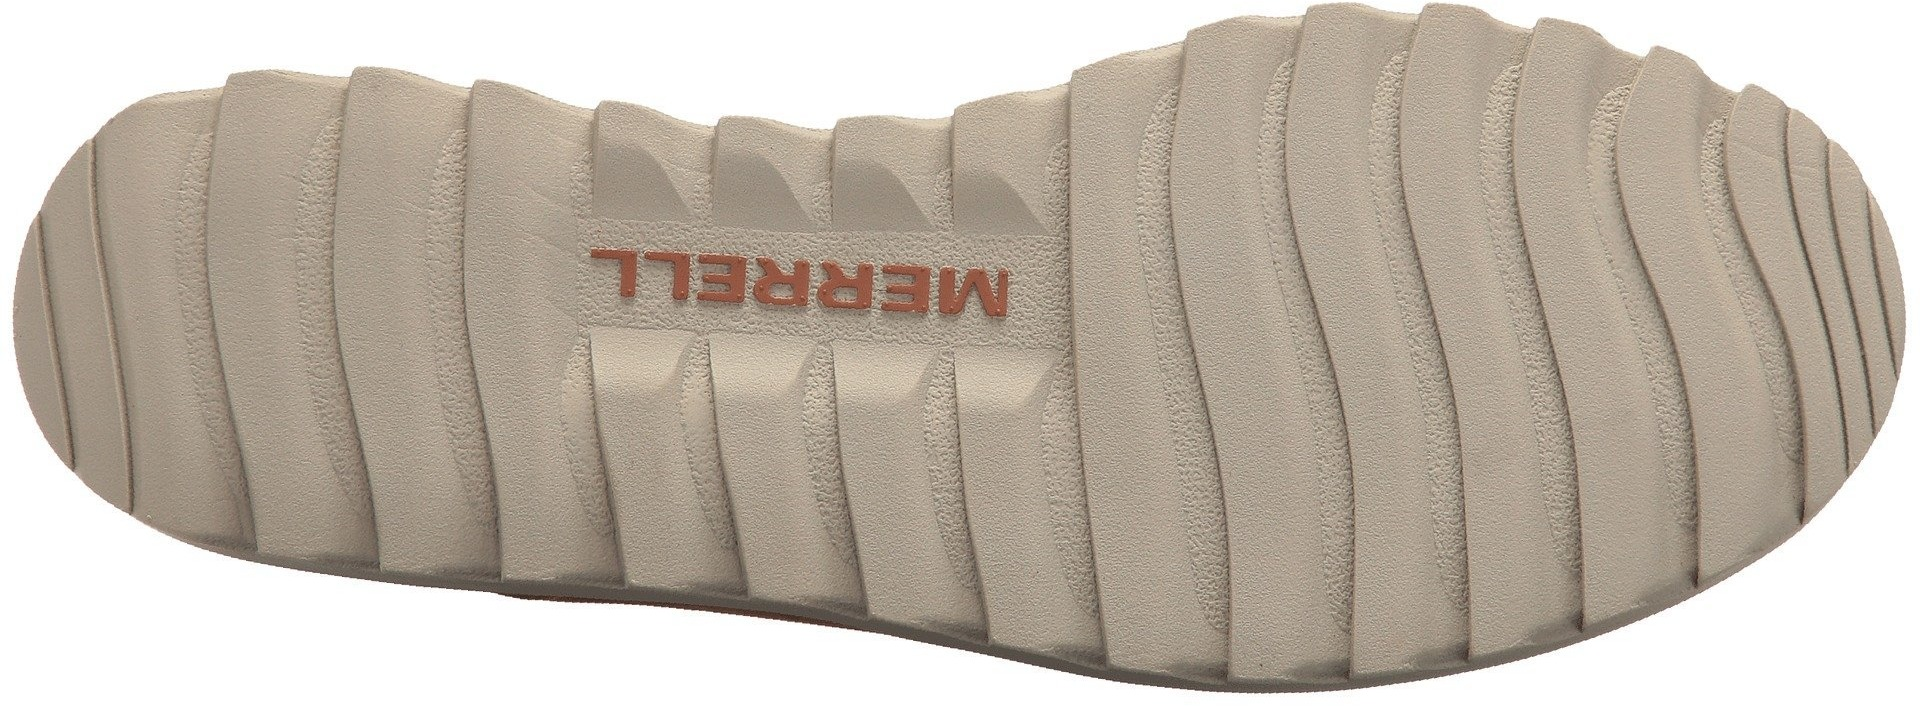quad: (1194, 72, 1727, 571), (148, 110, 571, 529), (604, 360, 850, 585), (864, 371, 1101, 591)
text: (582, 199, 756, 355), (877, 225, 1015, 352), (749, 224, 882, 345)
